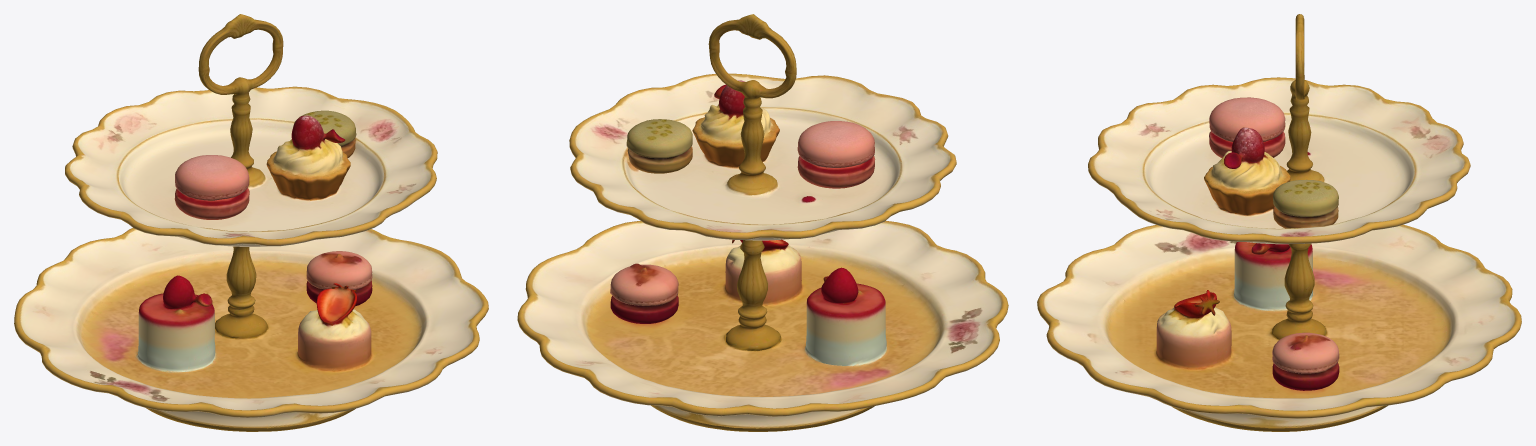
Rendered from ornate+dessert+stand+3d+model.glb.
The picture shows the model from 3 angles, left to right: view 1: azimuth 30°, elevation 25°; view 2: azimuth 150°, elevation 25°; view 3: azimuth 270°, elevation 25°; orthographic projection. The views are drawn at different scales.
Parts seen in each view (by area): view 1: tripo_node_8d7487eb-cbc1-4989-a690-62c3e7e60042; view 2: tripo_node_8d7487eb-cbc1-4989-a690-62c3e7e60042; view 3: tripo_node_8d7487eb-cbc1-4989-a690-62c3e7e60042.
Boxes of the visible parts, x1,y1,x2,y2 form: tripo_node_8d7487eb-cbc1-4989-a690-62c3e7e60042: (14,14,488,431); tripo_node_8d7487eb-cbc1-4989-a690-62c3e7e60042: (517,14,1008,431); tripo_node_8d7487eb-cbc1-4989-a690-62c3e7e60042: (1037,14,1521,431).
Size of the model in its own units: 0.9802 by 0.8059 by 0.9742.
1 material, 1 textured.
